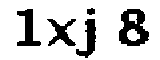1: (11, 5, 41, 49)
8: (116, 6, 150, 50)
j: (78, 6, 104, 59)
x: (45, 16, 78, 50)
